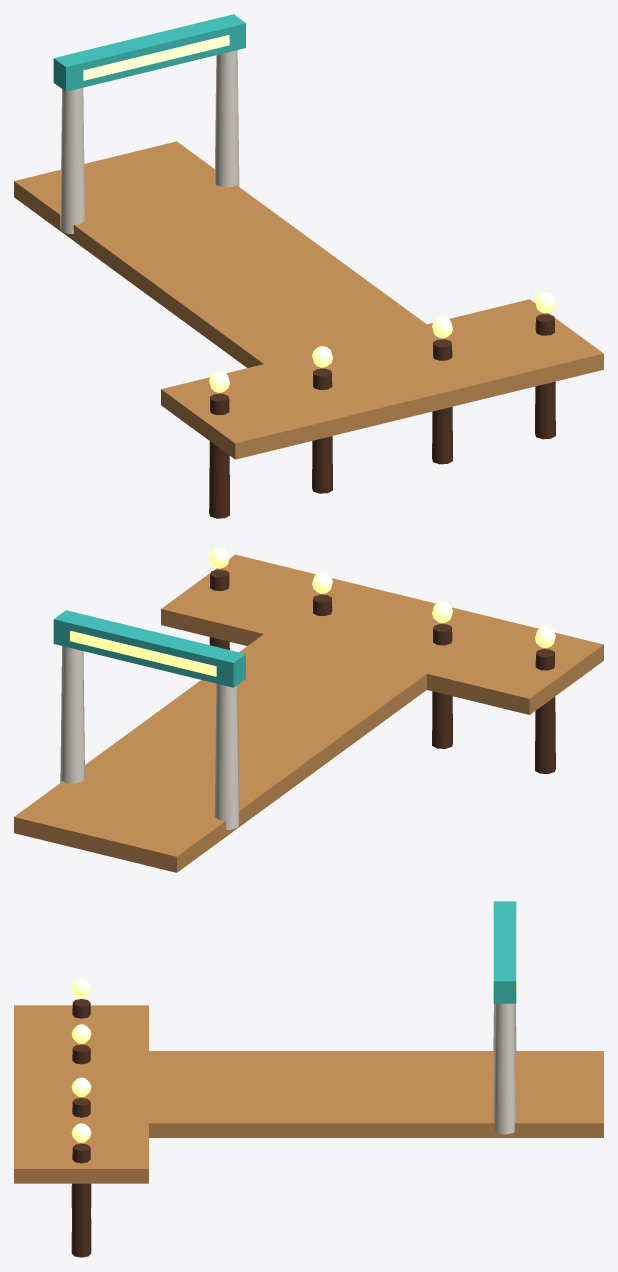
The model's file is horizon-pier.glb.
3 renders of one model, top to bottom at view 1: azimuth 30°, elevation 25°; view 2: azimuth 150°, elevation 25°; view 3: azimuth 270°, elevation 25°, orthographic. The views are drawn at different scales.
Parts seen in each view (by area): view 1: Mesh_lightWood, Mesh_darkWood, Mesh_warmWhite, Mesh_turquoise, Mesh_glowWarm; view 2: Mesh_lightWood, Mesh_warmWhite, Mesh_turquoise, Mesh_darkWood, Mesh_glowWarm; view 3: Mesh_lightWood, Mesh_warmWhite, Mesh_darkWood, Mesh_turquoise, Mesh_glowWarm.
Boxes of the visible parts, x1,y1,x2,y2 form: Mesh_lightWood: [14, 141, 603, 459]; Mesh_darkWood: [209, 314, 555, 518]; Mesh_warmWhite: [60, 50, 239, 233]; Mesh_turquoise: [53, 14, 245, 91]; Mesh_glowWarm: [83, 35, 555, 392]; Mesh_lightWood: [14, 554, 603, 872]; Mesh_warmWhite: [60, 646, 239, 829]; Mesh_turquoise: [53, 610, 245, 687]; Mesh_darkWood: [209, 569, 555, 773]; Mesh_glowWarm: [70, 547, 555, 676]; Mesh_lightWood: [14, 1005, 603, 1183]; Mesh_warmWhite: [493, 1003, 516, 1134]; Mesh_darkWood: [71, 999, 91, 1257]; Mesh_turquoise: [493, 901, 516, 1003]; Mesh_glowWarm: [71, 915, 517, 1142].
Size of the model in its own units: 8.6 by 5.88 by 13.1.
